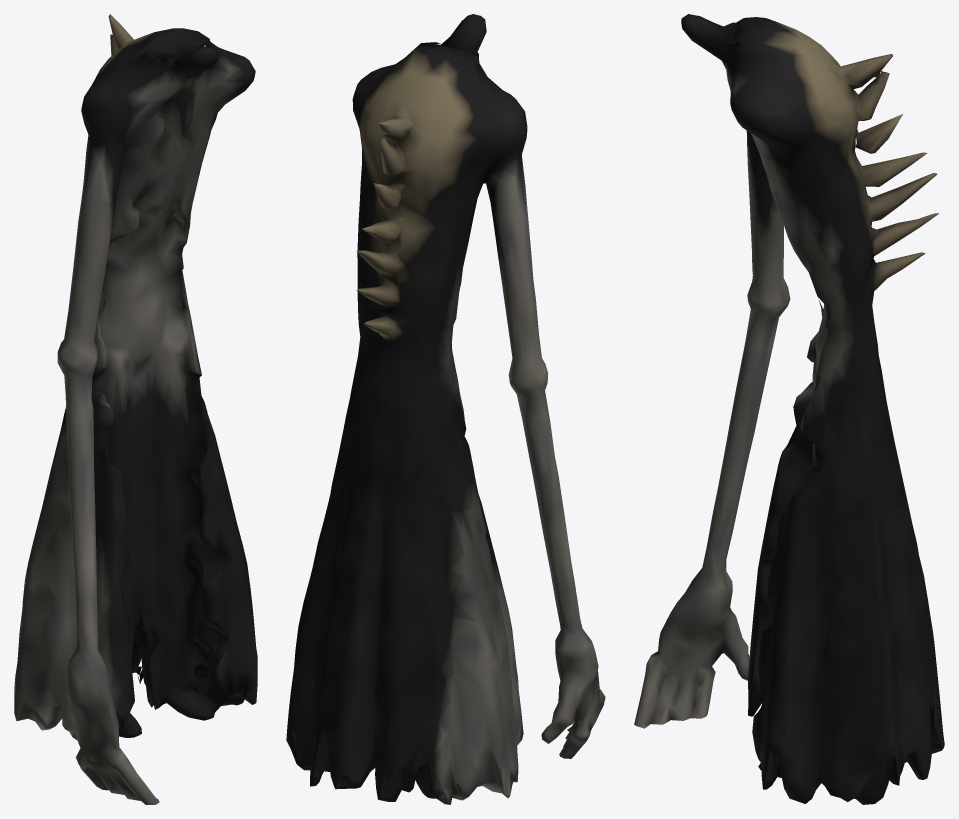
The model's file is giant_body.glb.
The picture shows the model from 3 angles, left to right: view 1: azimuth 30°, elevation 25°; view 2: azimuth 150°, elevation 25°; view 3: azimuth 270°, elevation 25°; orthographic projection. The views are drawn at different scales.
Parts seen in each view (by area): view 1: giant_body; view 2: giant_body; view 3: giant_body.
Part boxes in pixels (x1=…): giant_body: x1=14, y1=14, x2=257, y2=804; giant_body: x1=286, y1=14, x2=605, y2=804; giant_body: x1=634, y1=14, x2=944, y2=804.
Bounding box in the file's own units: 0.741 × 2.25 × 0.8479.
